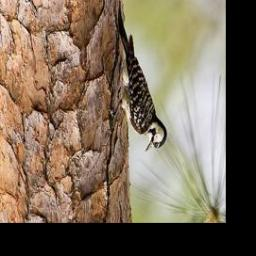Woodpecker: (110, 2, 168, 153)
